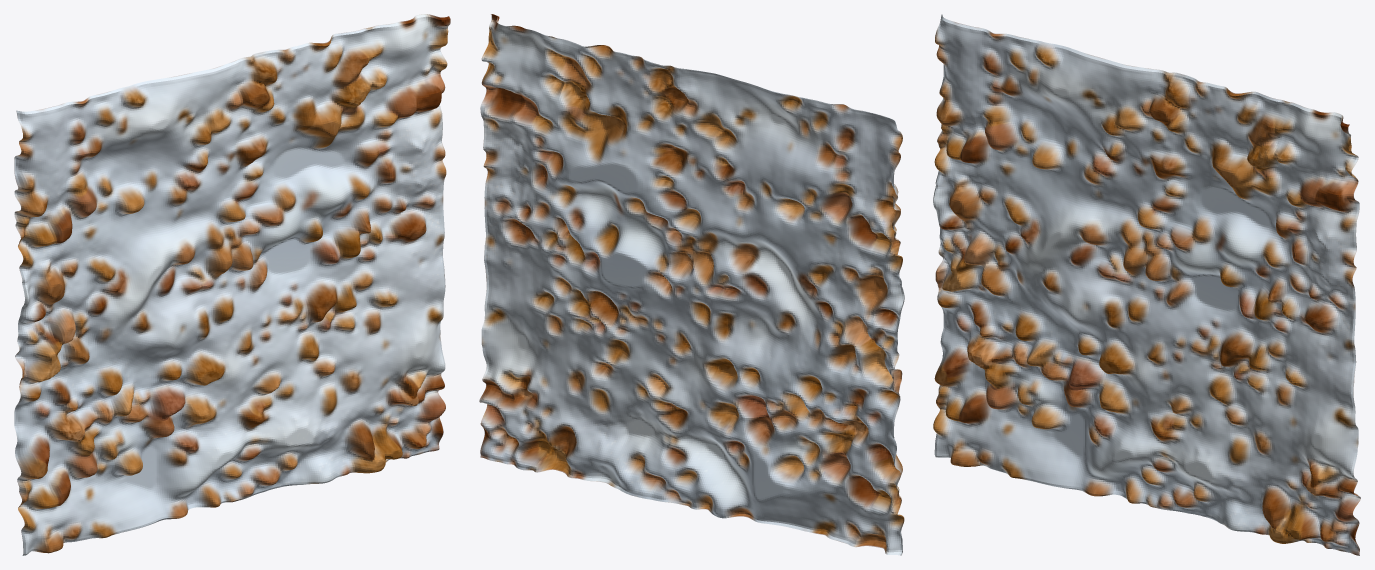
3 renders of one model, left to right at view 1: azimuth 30°, elevation 25°; view 2: azimuth 150°, elevation 25°; view 3: azimuth 330°, elevation 25°, orthographic.
Parts seen in each view (by area): view 1: sample_01_2_after_ft; view 2: sample_01_2_after_ft; view 3: sample_01_2_after_ft.
Boxes of the visible parts, box(x1,y1,x2,y2) form: sample_01_2_after_ft: box(14, 14, 450, 555); sample_01_2_after_ft: box(479, 14, 904, 555); sample_01_2_after_ft: box(933, 14, 1360, 555).
Size of the model in its own units: 1 by 1 by 0.06.
1 material, 1 textured.
